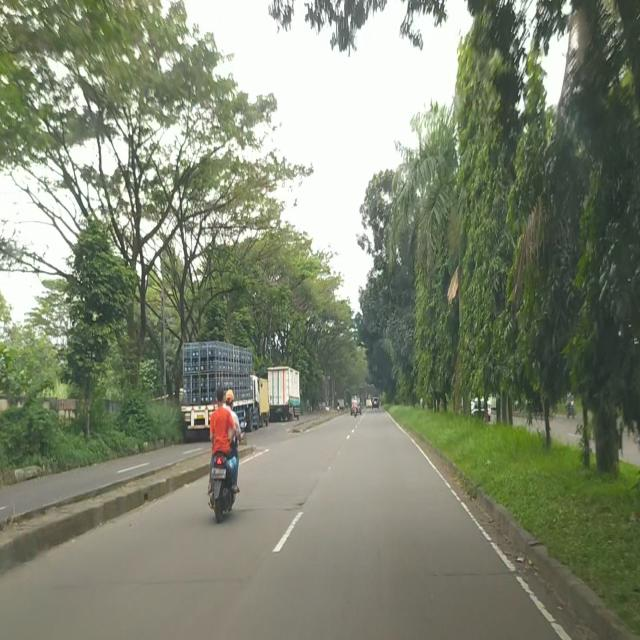Sewer Cover: (431, 570, 514, 580), (235, 506, 298, 513)
